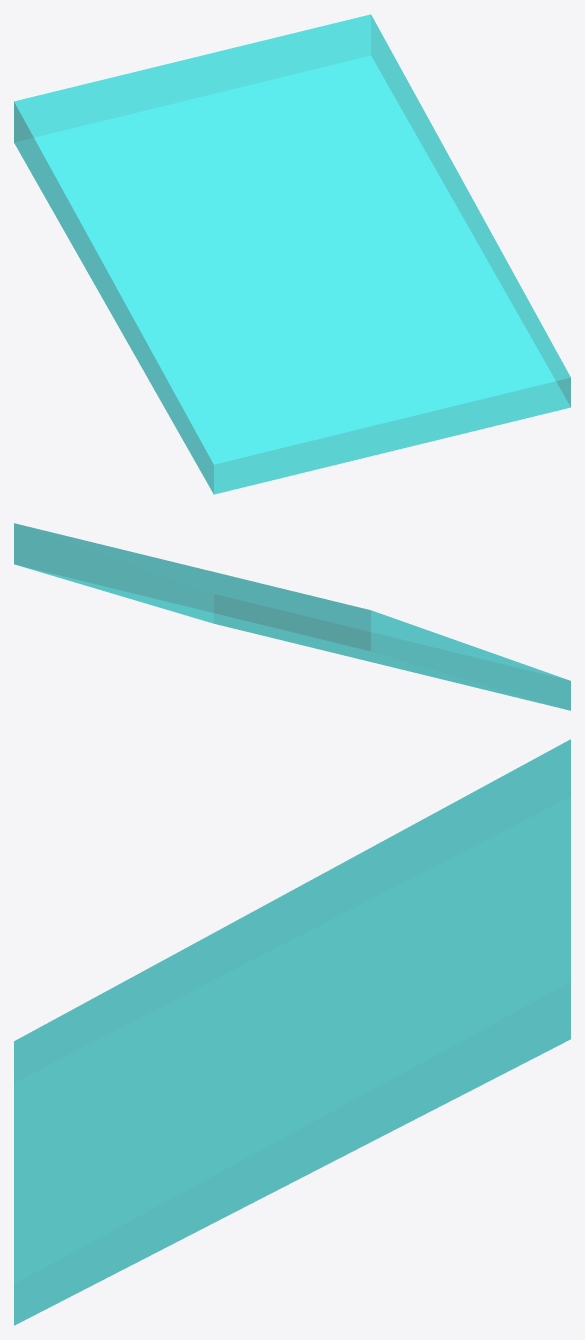
Rendered from SM_Bld_Dock_Wood_Stairs_02_Collision.fbx.
3 renders of one model, top to bottom at view 1: azimuth 30°, elevation 25°; view 2: azimuth 150°, elevation 25°; view 3: azimuth 270°, elevation 25°, orthographic. The views are drawn at different scales.
Visible parts, largest first — view 1: SM_Bld_Dock_Wood_Stairs_02_Collision; view 2: SM_Bld_Dock_Wood_Stairs_02_Collision; view 3: SM_Bld_Dock_Wood_Stairs_02_Collision.
Part boxes in pixels (box(x1,y1,x2,y2)): SM_Bld_Dock_Wood_Stairs_02_Collision: box(14, 14, 570, 494); SM_Bld_Dock_Wood_Stairs_02_Collision: box(14, 523, 570, 710); SM_Bld_Dock_Wood_Stairs_02_Collision: box(14, 739, 570, 1325).
Size of the model in its own units: 258 by 170 by 250.
